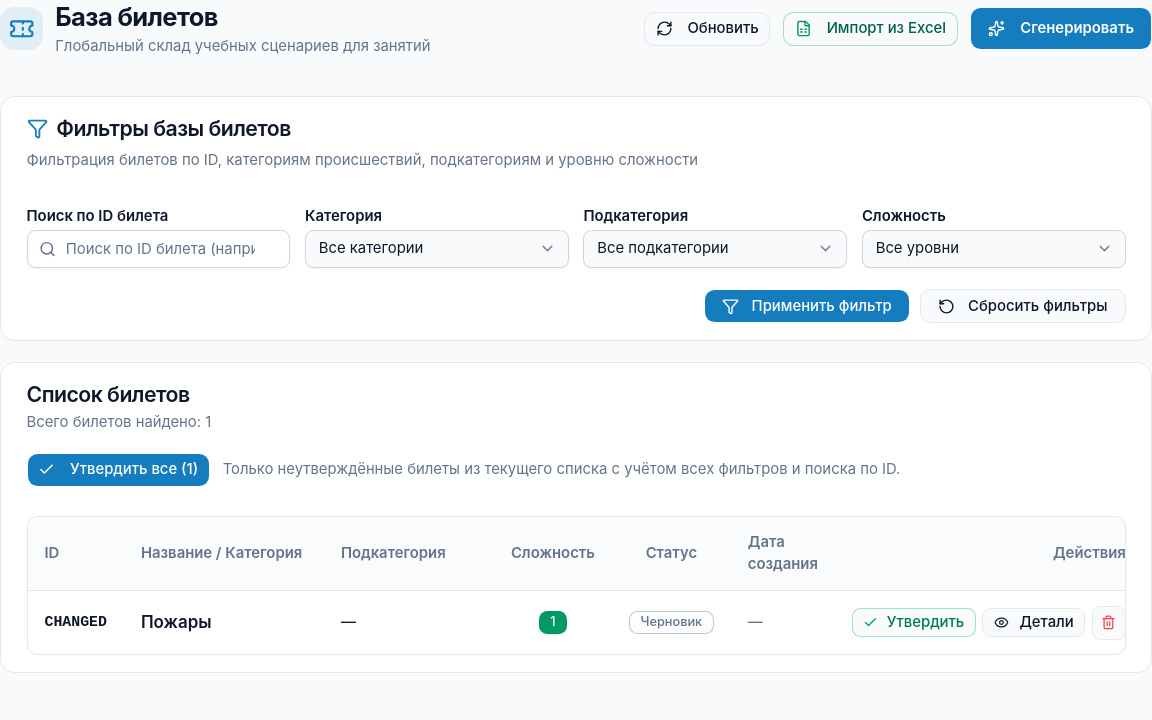
Test: Массовое утверждение билетов › после нового запроса учитывает повторную отправку измененного билета на проверку
This screenshot has width=1152, height=720.
Click the button "Утвердить все (1)". click: (118, 470)
box: [26, 453, 210, 487]
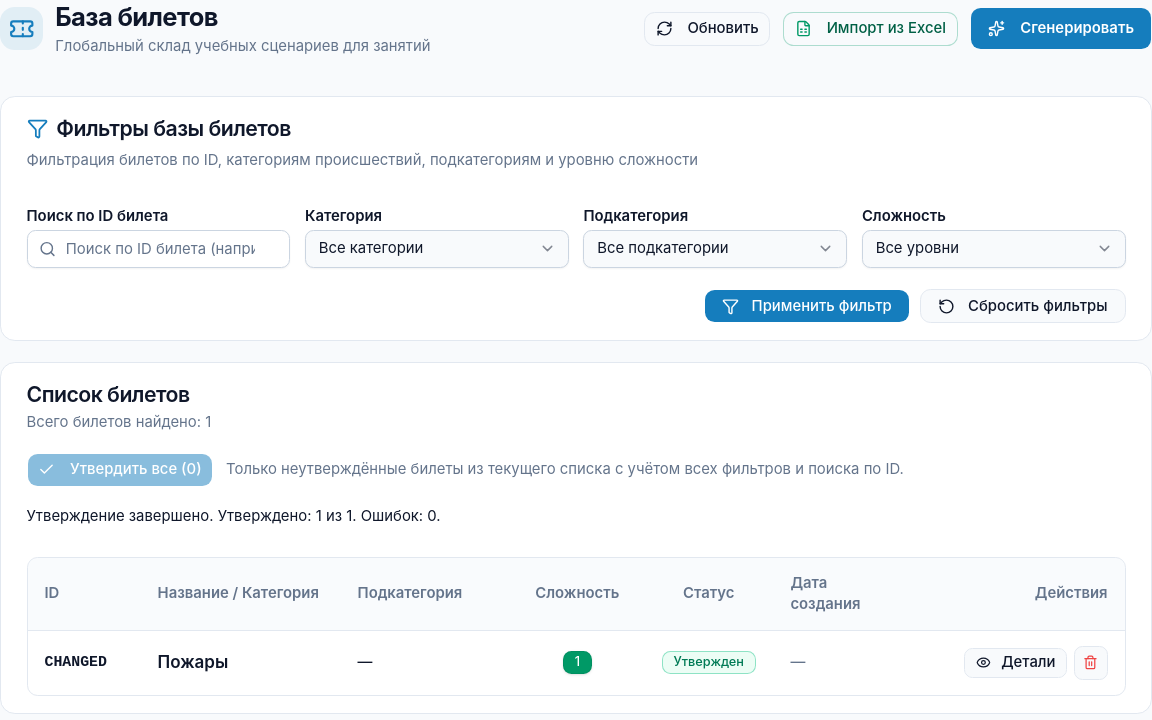
expect the text "Утверждение завершено. Утверждено: 1 из 1. Ошибок: 0." is shown: met, box [26, 507, 441, 525]
Click the button "Обновить". click: (707, 29)
box: [644, 12, 770, 46]
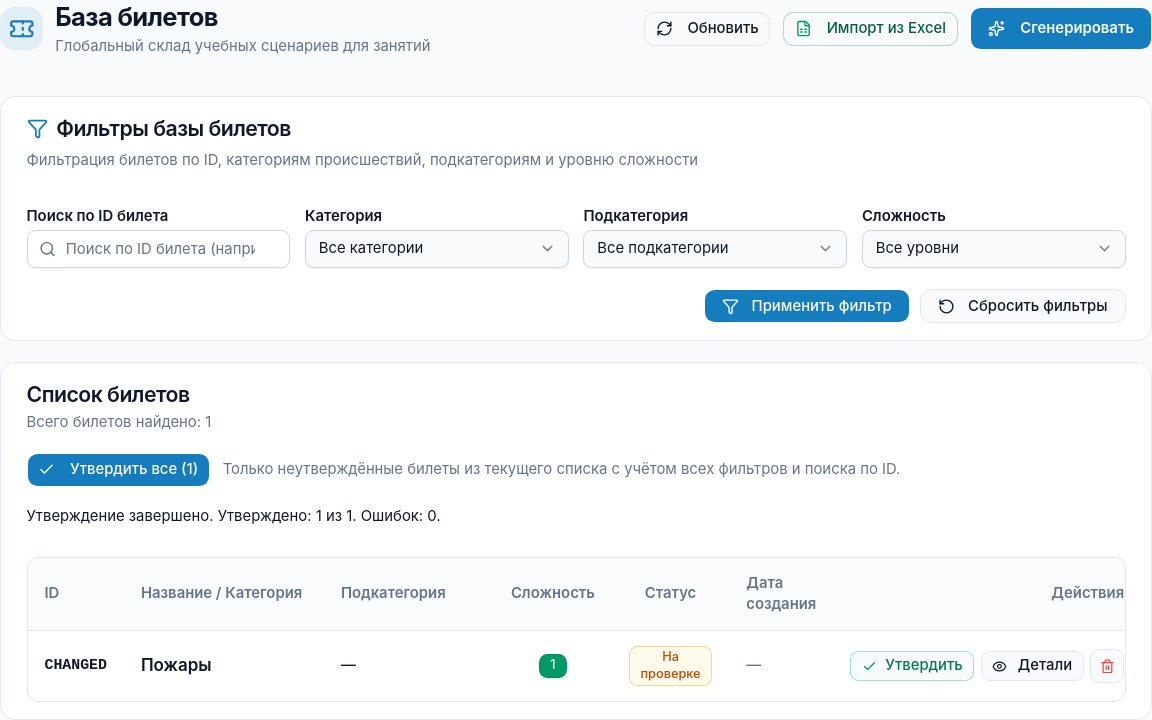
expect the button with aria-label "Утвердить билет CHANGED" is enabled: met, box [850, 651, 974, 681]
